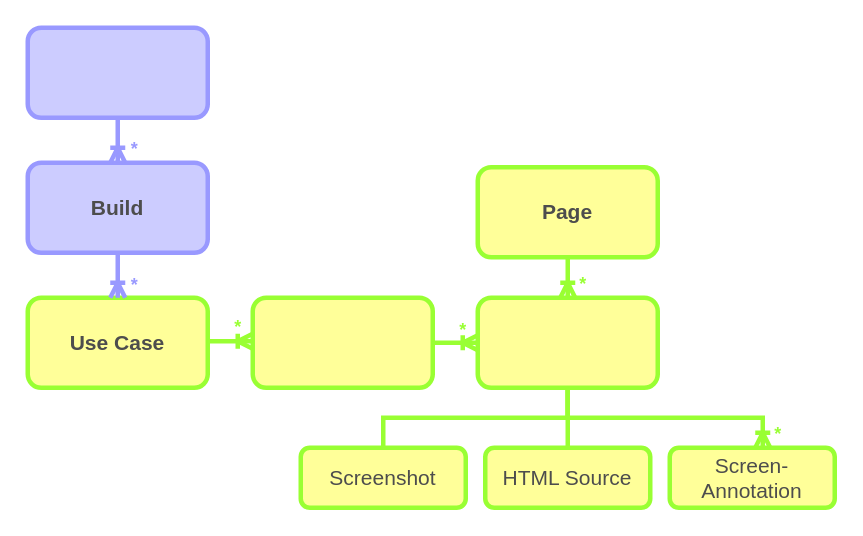
Image size: 863x536. Some labels were removed from this diagram. The centre of each missing label's shape, as x and y in pixels:
Branch: point 117,72
Scenario: point 342,342
Step: point 567,342
